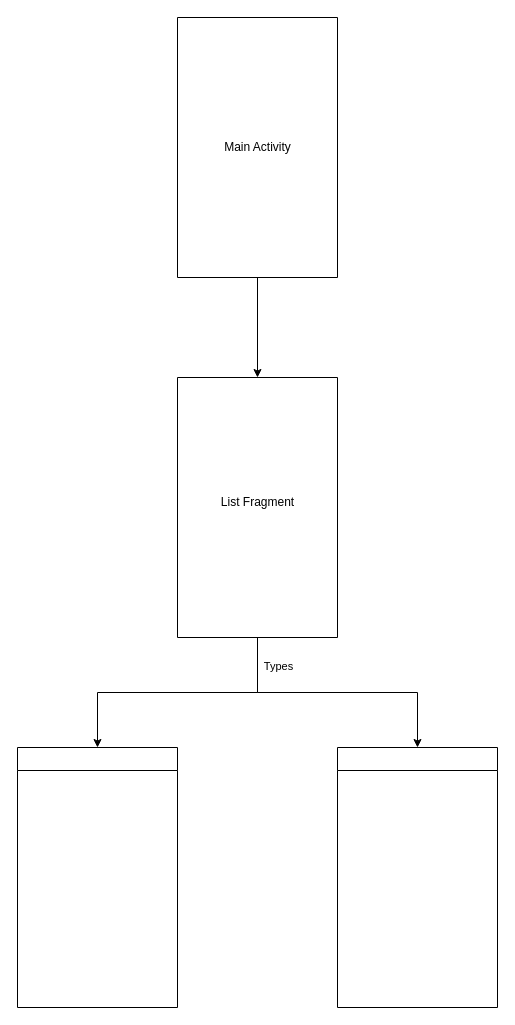
The diagram is 515 pixels wide and 1025 high, and some of its shapes have lost their labels. Each missing label, with the box of its shape:
Liked Wallpapers: (336, 746, 498, 1008)
Wallpapers From Api: (16, 746, 178, 1008)
